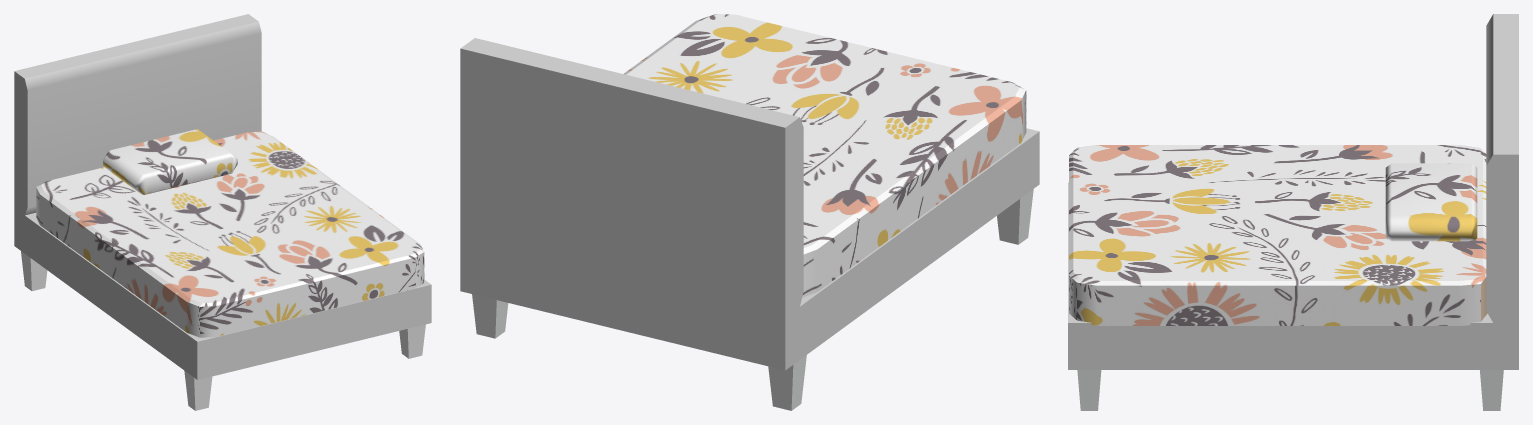
The model's file is Children Bed.fbx.
The picture shows the model from 3 angles, left to right: view 1: azimuth 30°, elevation 25°; view 2: azimuth 150°, elevation 25°; view 3: azimuth 270°, elevation 25°; orthographic projection. The views are drawn at different scales.
Visible parts, largest first — view 1: Children1_pCube10; view 2: Children1_pCube10; view 3: Children1_pCube10.
Boxes of the visible parts, x1,y1,x2,y2 form: Children1_pCube10: (14,14,431,410); Children1_pCube10: (460,14,1039,410); Children1_pCube10: (1068,14,1518,410).
Size of the model in its own units: 146 by 124 by 196.
